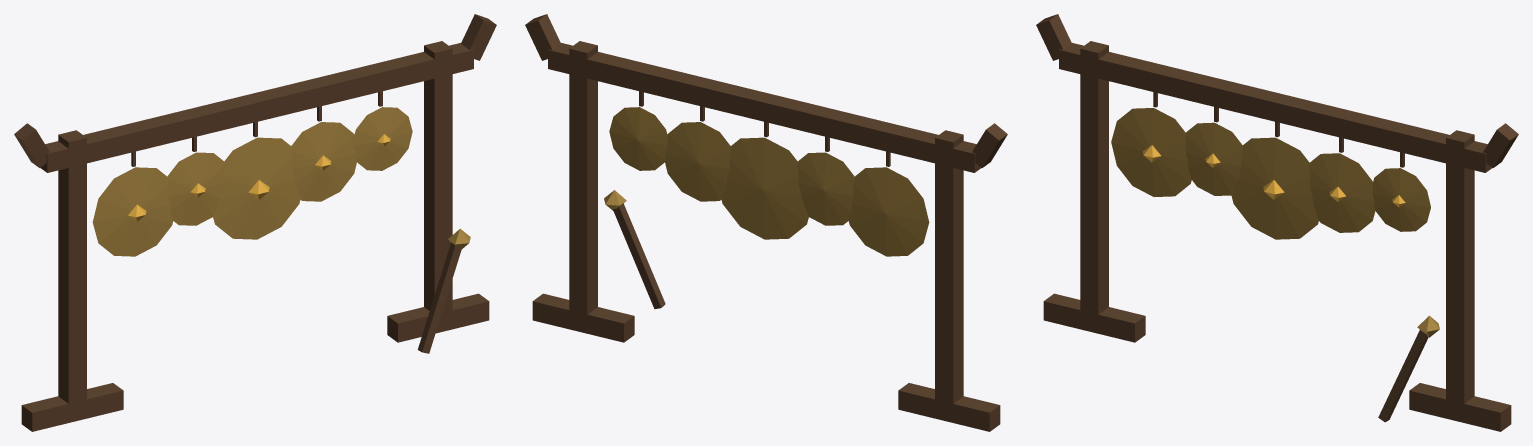
The model's file is viet_gong_rack.glb.
The picture shows the model from 3 angles, left to right: view 1: azimuth 30°, elevation 25°; view 2: azimuth 150°, elevation 25°; view 3: azimuth 330°, elevation 25°; orthographic projection.
Parts seen in each view (by area): view 1: viet_gong_rack; view 2: viet_gong_rack; view 3: viet_gong_rack.
Part boxes in pixels (x1,y1,x2,y2): viet_gong_rack: (14, 14, 496, 431); viet_gong_rack: (525, 14, 1007, 431); viet_gong_rack: (1036, 14, 1518, 431).
Bounding box in the file's own units: 1 × 0.6057 × 0.14.
